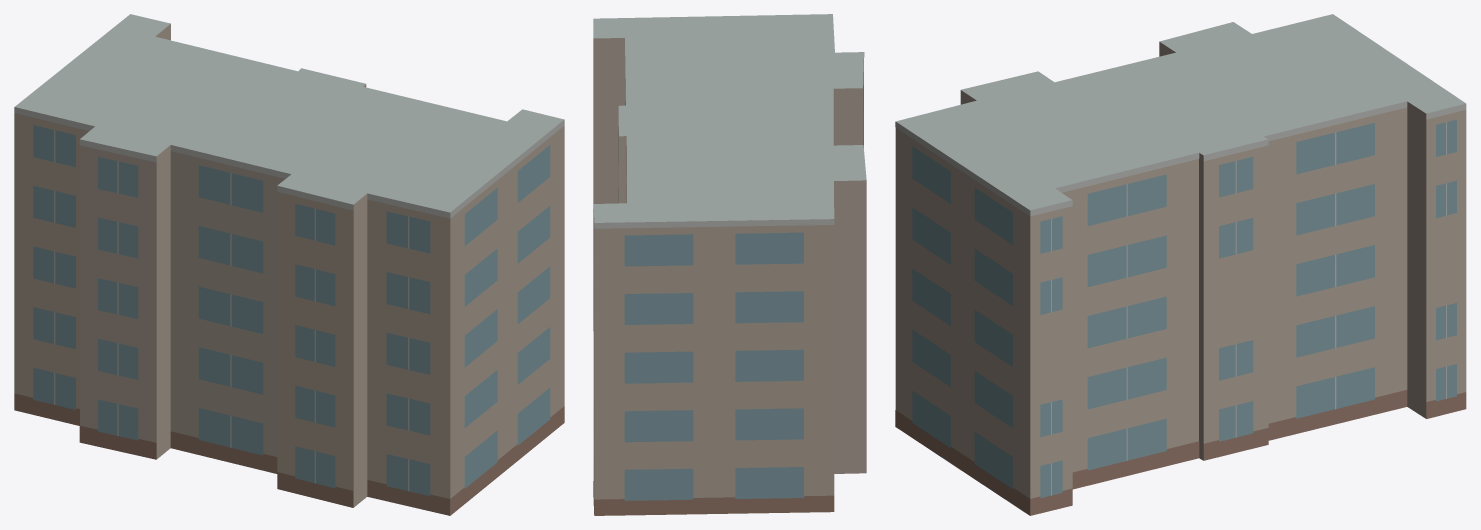
The model's file is survey-upis-32755513.glb.
3 views of the same model, side by side, from view 1: azimuth 30°, elevation 25°; view 2: azimuth 150°, elevation 25°; view 3: azimuth 270°, elevation 25° (orthographic). The views are drawn at different scales.
Visible parts, largest first — view 1: survey-upis-32755513.tmp; view 2: survey-upis-32755513.tmp; view 3: survey-upis-32755513.tmp.
Boxes of the visible parts, left/top/right/bottom form: survey-upis-32755513.tmp: left=14, top=14, right=564, bottom=515; survey-upis-32755513.tmp: left=593, top=14, right=866, bottom=515; survey-upis-32755513.tmp: left=895, top=14, right=1466, bottom=515.
Size of the model in its own units: 16.98 by 12.3 by 20.84.
